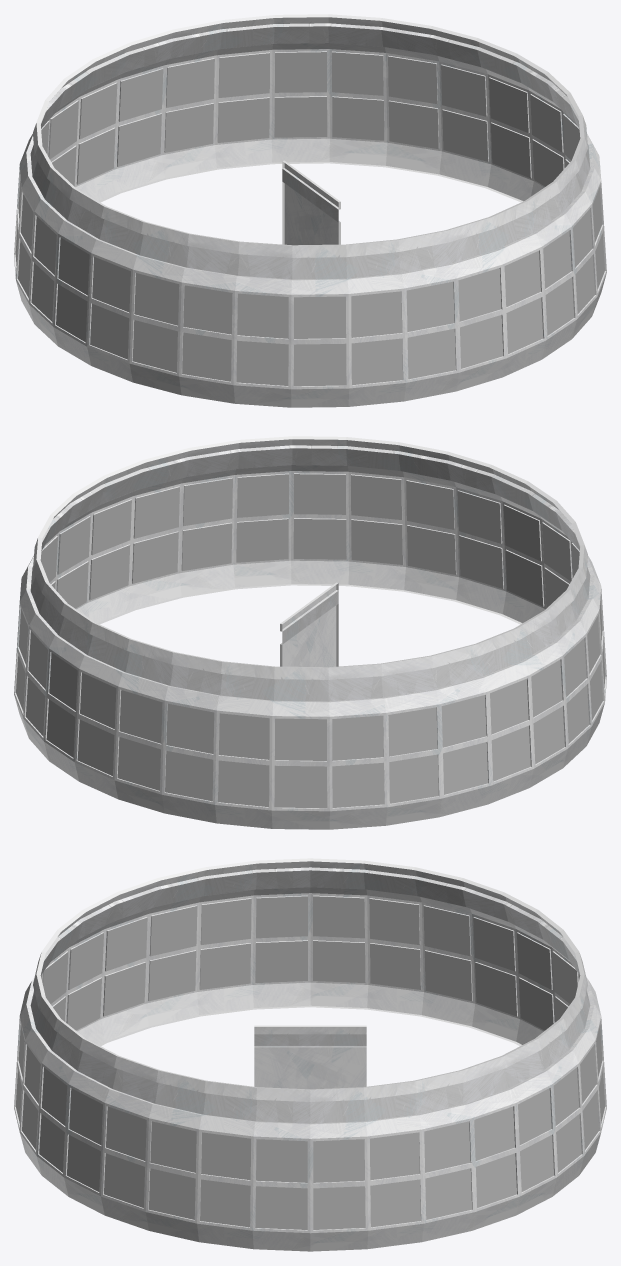
Rendered from Round-Wall-Segment_windows.fbx.
3 views of the same model, one above another, from view 1: azimuth 30°, elevation 25°; view 2: azimuth 150°, elevation 25°; view 3: azimuth 270°, elevation 25° (orthographic).
Parts seen in each view (by area): view 1: Sphere, Plane; view 2: Sphere, Plane; view 3: Sphere, Plane.
Boxes of the visible parts, x1,y1,x2,y2 form: Sphere: (14, 14, 606, 407); Plane: (282, 160, 340, 245); Sphere: (14, 436, 606, 829); Plane: (280, 582, 338, 667); Sphere: (14, 858, 606, 1251); Plane: (254, 1025, 366, 1089).
Bounding box in the file's own units: 1056 × 304 × 1056.
